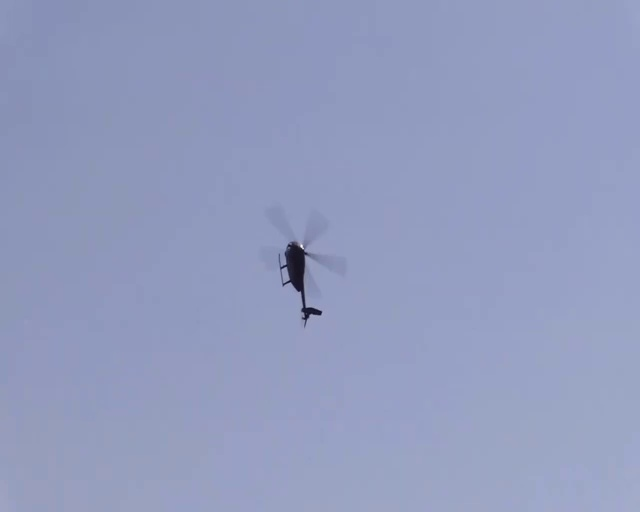HELICOPTER: (259, 201, 347, 328)
